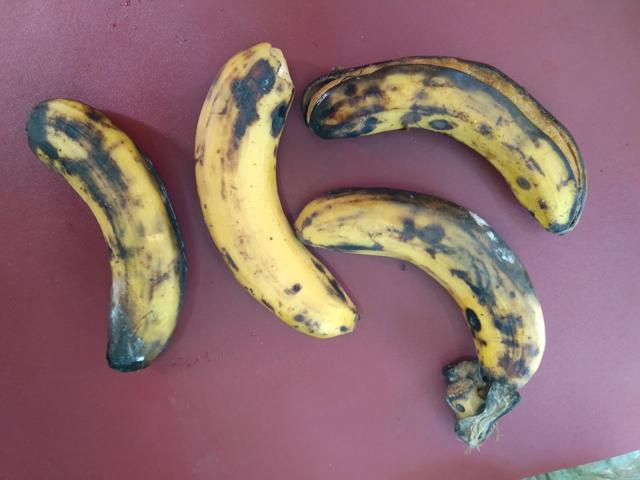overripe: (182, 35, 368, 357)
rotten: (294, 46, 599, 243), (314, 178, 553, 404), (24, 83, 192, 363)
